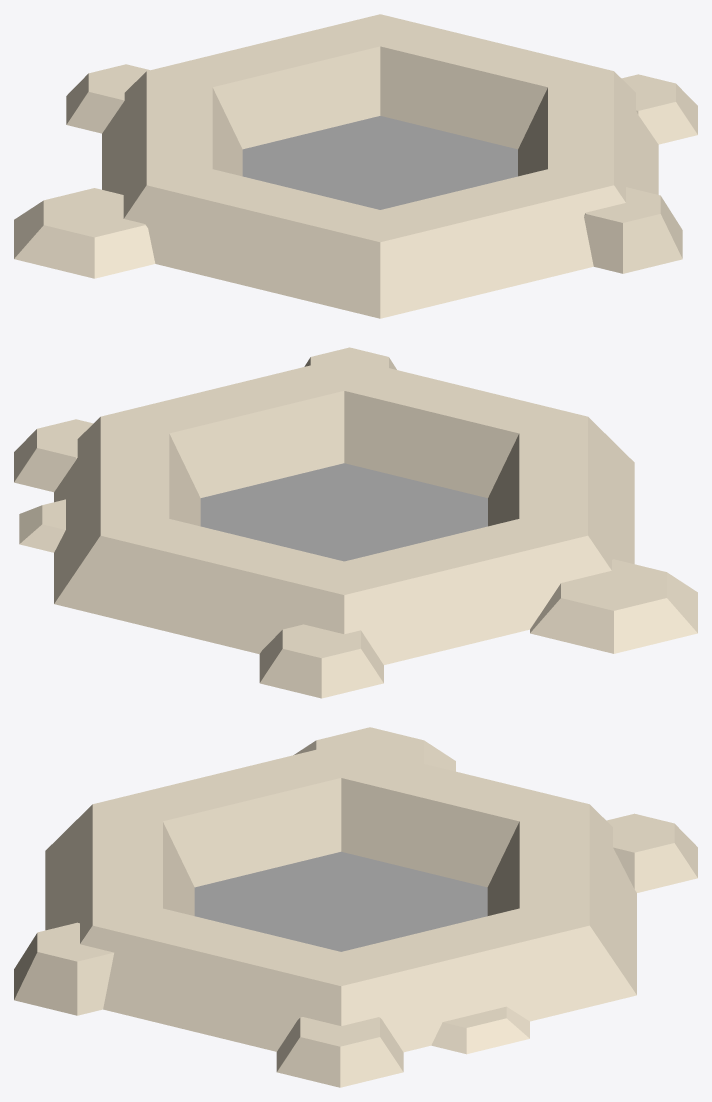
The model's file is hole.glb.
3 views of the same model, one above another, from view 1: azimuth 30°, elevation 25°; view 2: azimuth 150°, elevation 25°; view 3: azimuth 270°, elevation 25° (orthographic). The views are drawn at different scales.
Parts seen in each view (by area): view 1: hole; view 2: hole; view 3: hole.
Boxes of the visible parts, left/top/right/bottom form: hole: left=14, top=14, right=697, bottom=318; hole: left=14, top=347, right=697, bottom=698; hole: left=14, top=727, right=697, bottom=1087.
Bounding box in the file's own units: 1.02 × 0.08 × 0.851.
